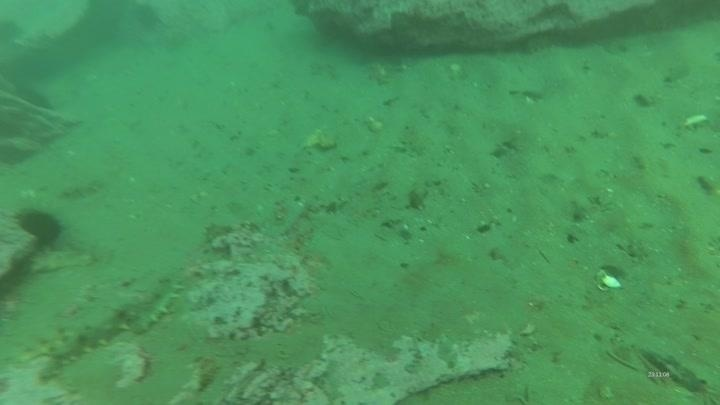echinus: (13, 205, 66, 248)
holothurian: (37, 303, 138, 369), (122, 271, 186, 337), (27, 244, 98, 278)
